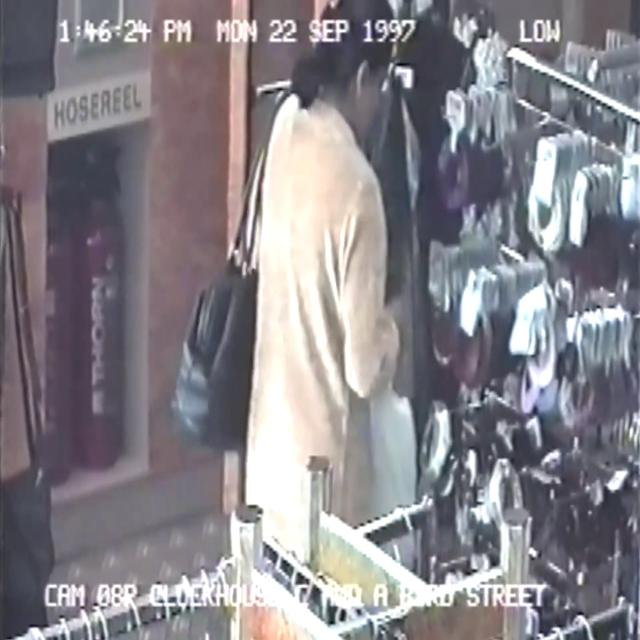normal: (181, 6, 455, 640)
